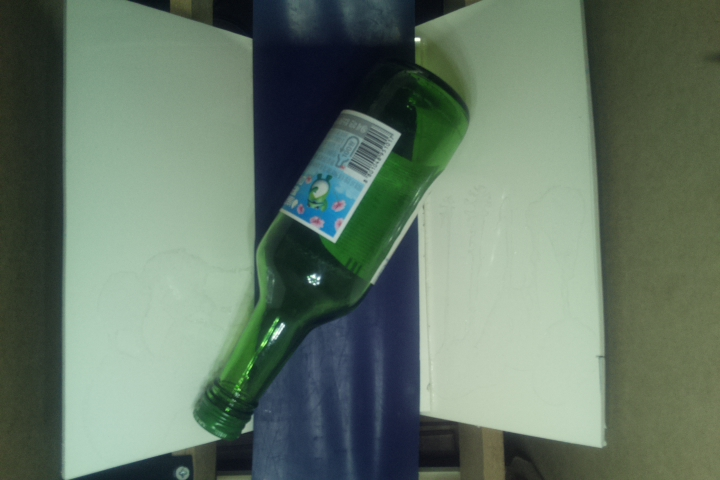soju: (188, 57, 471, 442)
